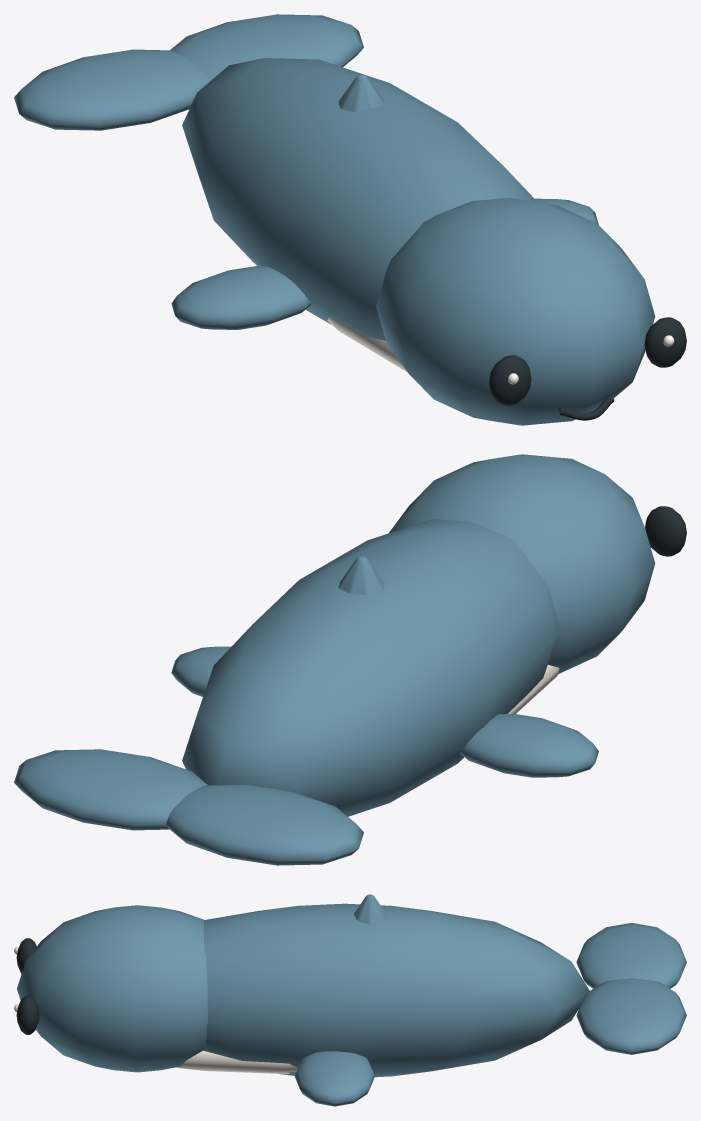
The model's file is org_bluewhale.glb.
3 views of the same model, one above another, from view 1: azimuth 30°, elevation 25°; view 2: azimuth 150°, elevation 25°; view 3: azimuth 270°, elevation 25° (orthographic). The views are drawn at different scales.
Parts seen in each view (by area): view 1: Body, Head, Tail, Fin_R, Eye_R, Eye_L; view 2: Body, Head, Tail, Fin_R, Eye_R, Fin_L; view 3: Body, Head, Tail, Fin_L, Eye_L, Eye_R.
Boxes of the visible parts, left/top/right/bottom form: Body: left=182, top=58, right=537, bottom=372; Head: left=376, top=197, right=655, bottom=425; Tail: left=14, top=14, right=363, bottom=130; Fin_R: left=171, top=266, right=310, bottom=329; Eye_R: left=489, top=355, right=531, bottom=405; Eye_L: left=644, top=317, right=686, bottom=367; Body: left=182, top=519, right=559, bottom=816; Head: left=389, top=454, right=655, bottom=673; Tail: left=14, top=749, right=363, bottom=865; Fin_R: left=460, top=713, right=598, bottom=777; Eye_R: left=645, top=506, right=686, bottom=556; Fin_L: left=171, top=646, right=231, bottom=696; Body: left=175, top=894, right=589, bottom=1077; Head: left=17, top=905, right=208, bottom=1072; Tail: left=576, top=923, right=686, bottom=1054; Fin_L: left=294, top=1051, right=374, bottom=1106; Eye_L: left=14, top=995, right=39, bottom=1034; Eye_R: left=14, top=938, right=36, bottom=973.
Bounding box in the file's own units: 2.46 × 1.28 × 4.5.
